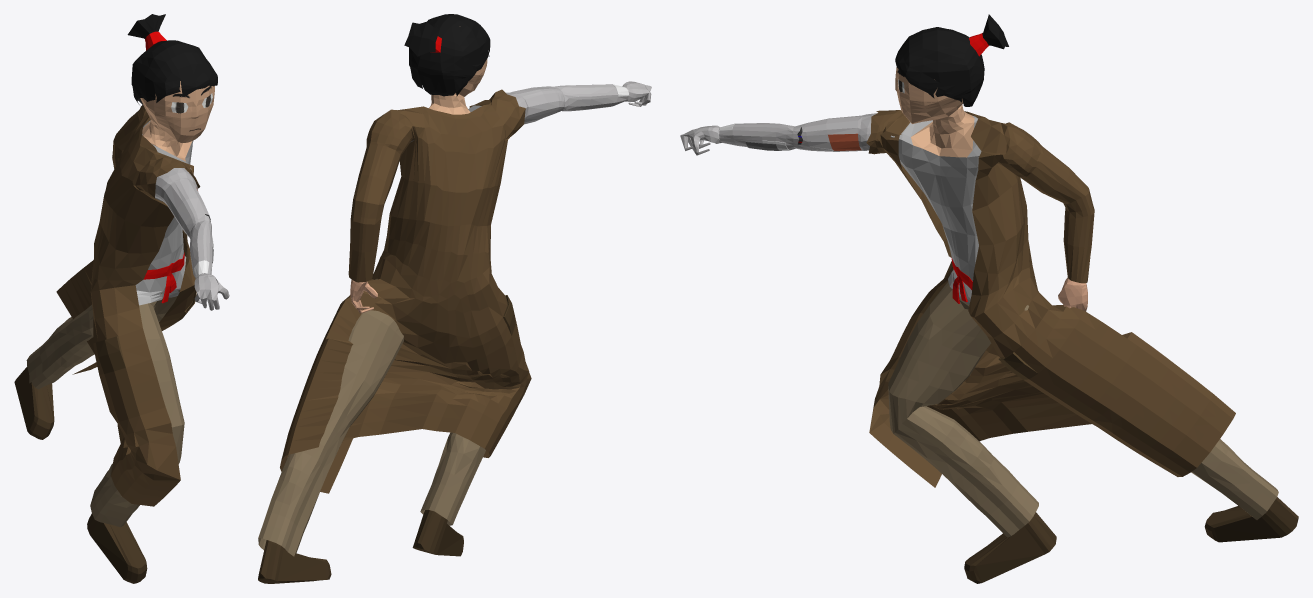
The model's file is OneAnimationTest_000009.obj.
3 renders of one model, left to right at view 1: azimuth 30°, elevation 25°; view 2: azimuth 150°, elevation 25°; view 3: azimuth 270°, elevation 25°, orthographic. The views are drawn at different scales.
Visible parts, largest first — view 1: Jacket_Cube, Body_Cube.003, Hair_Cube.004; view 2: Jacket_Cube, Body_Cube.003, Hair_Cube.004; view 3: Jacket_Cube, Body_Cube.003, Hair_Cube.004.
Boxes of the visible parts, x1,y1,x2,y2 form: Jacket_Cube: (56, 105, 200, 506); Body_Cube.003: (14, 81, 229, 583); Hair_Cube.004: (127, 14, 217, 105); Jacket_Cube: (280, 89, 531, 493); Body_Cube.003: (258, 59, 651, 583); Hair_Cube.004: (404, 14, 490, 96); Jacket_Cube: (866, 110, 1235, 487); Body_Cube.003: (680, 67, 1298, 583); Hair_Cube.004: (895, 14, 1008, 106).
Size of the model in its own units: 1.07 by 3.64 by 3.55.
